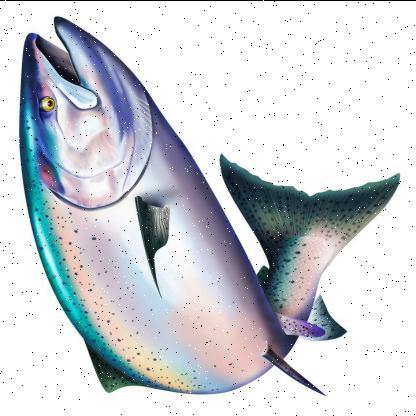fish: (16, 15, 400, 396)
